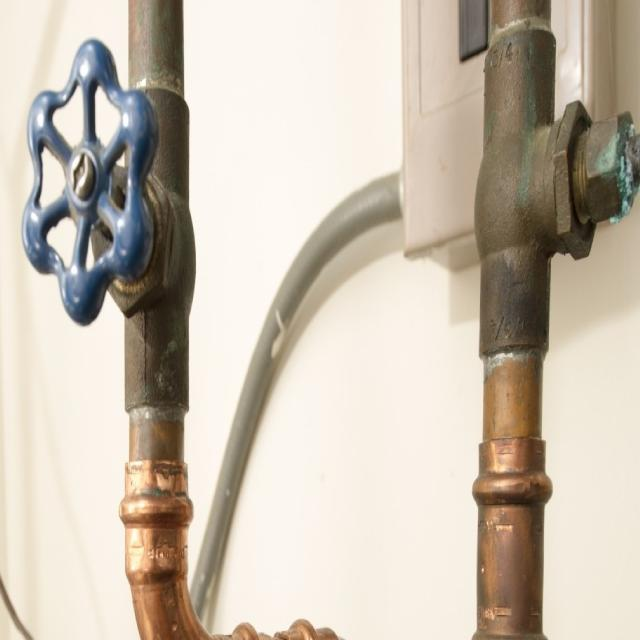Wheel Handle Valve Threaded: (23, 39, 195, 409)
